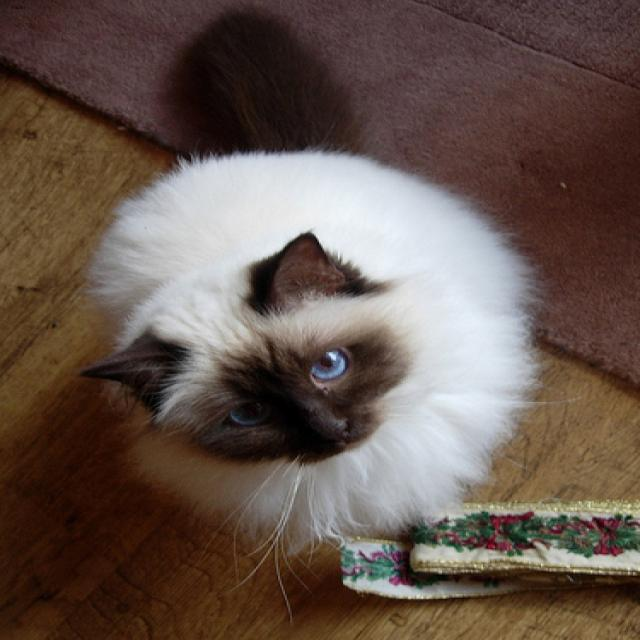Birman: (67, 214, 410, 479)
